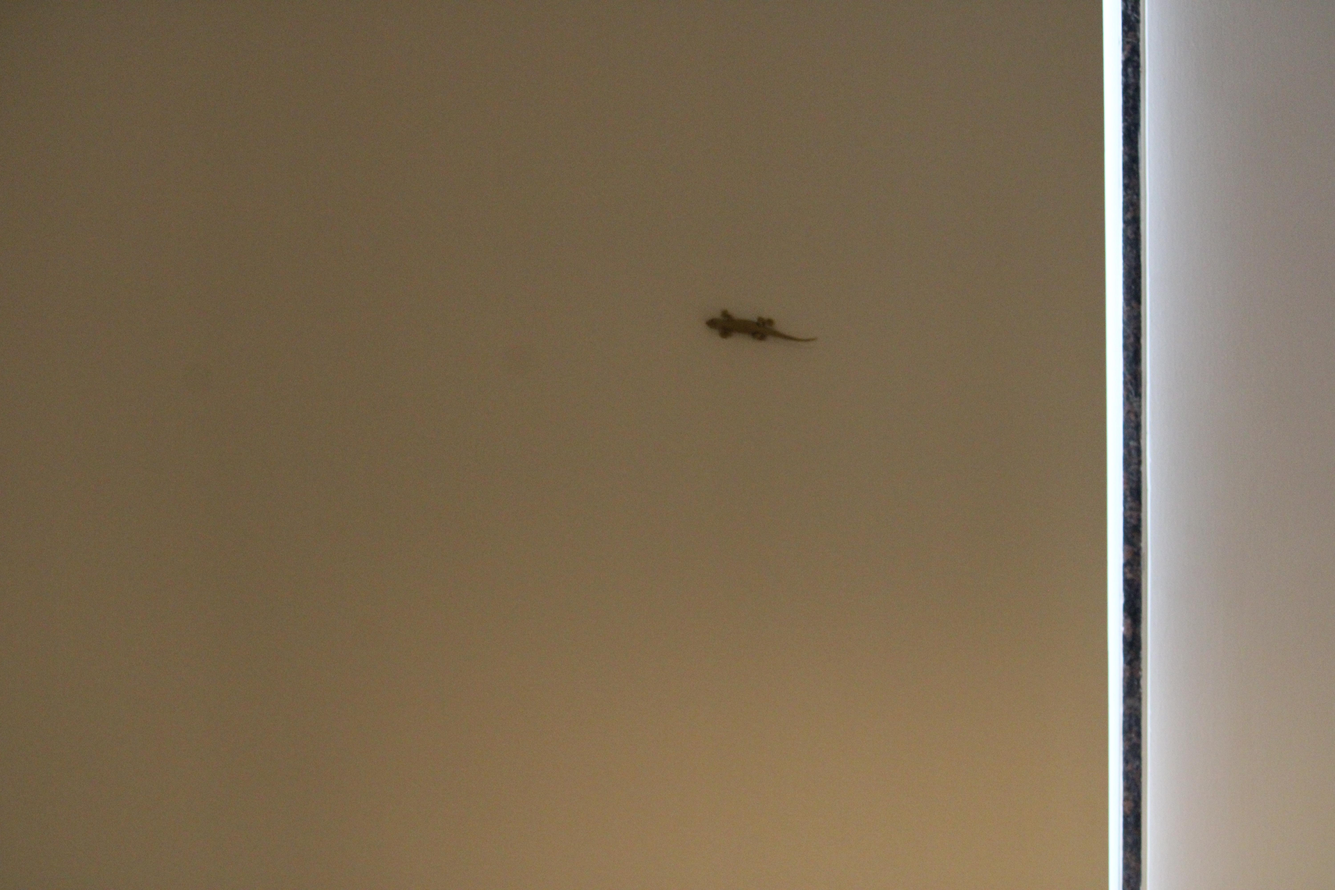lizard: (706, 294, 806, 358)
